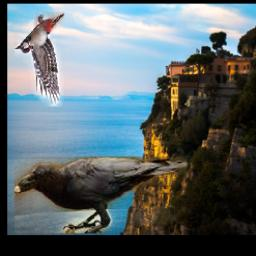Crow: (16, 157, 189, 234)
Woodpecker: (15, 13, 64, 108)
